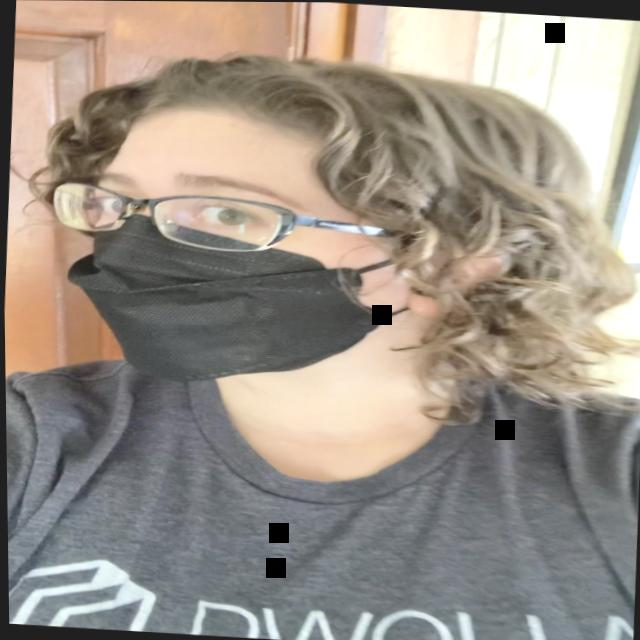Mask: (54, 100, 431, 393), (361, 608, 467, 640)
